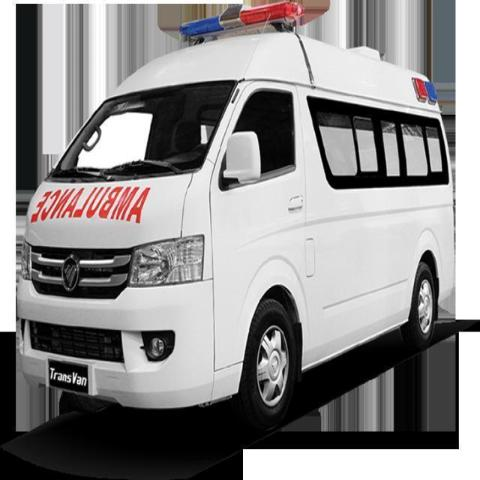van: (10, 0, 462, 440)
